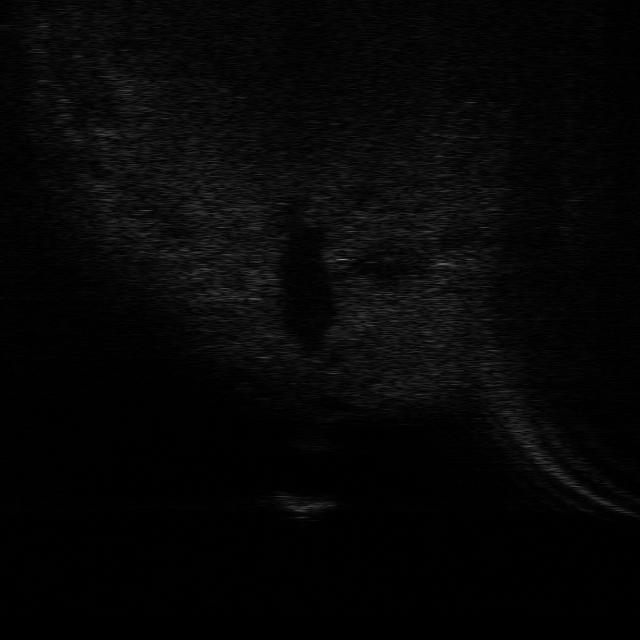cube: (269, 488, 339, 524)
